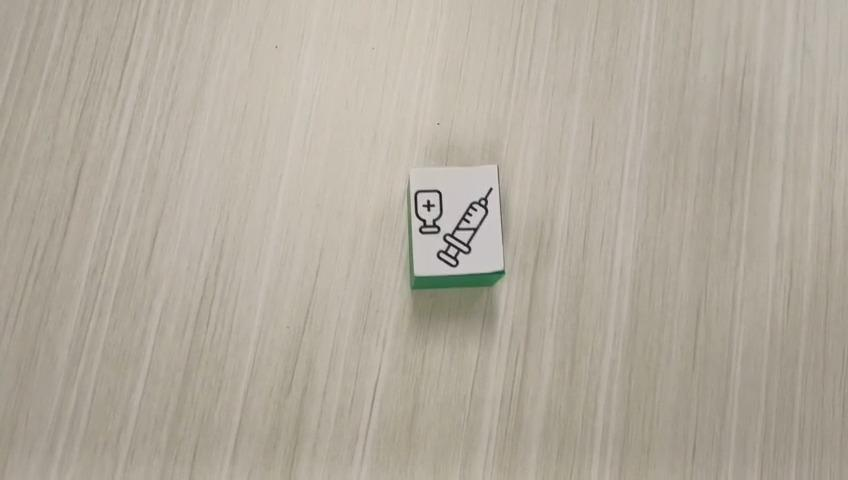antiseptic cream: (405, 163, 506, 290)
